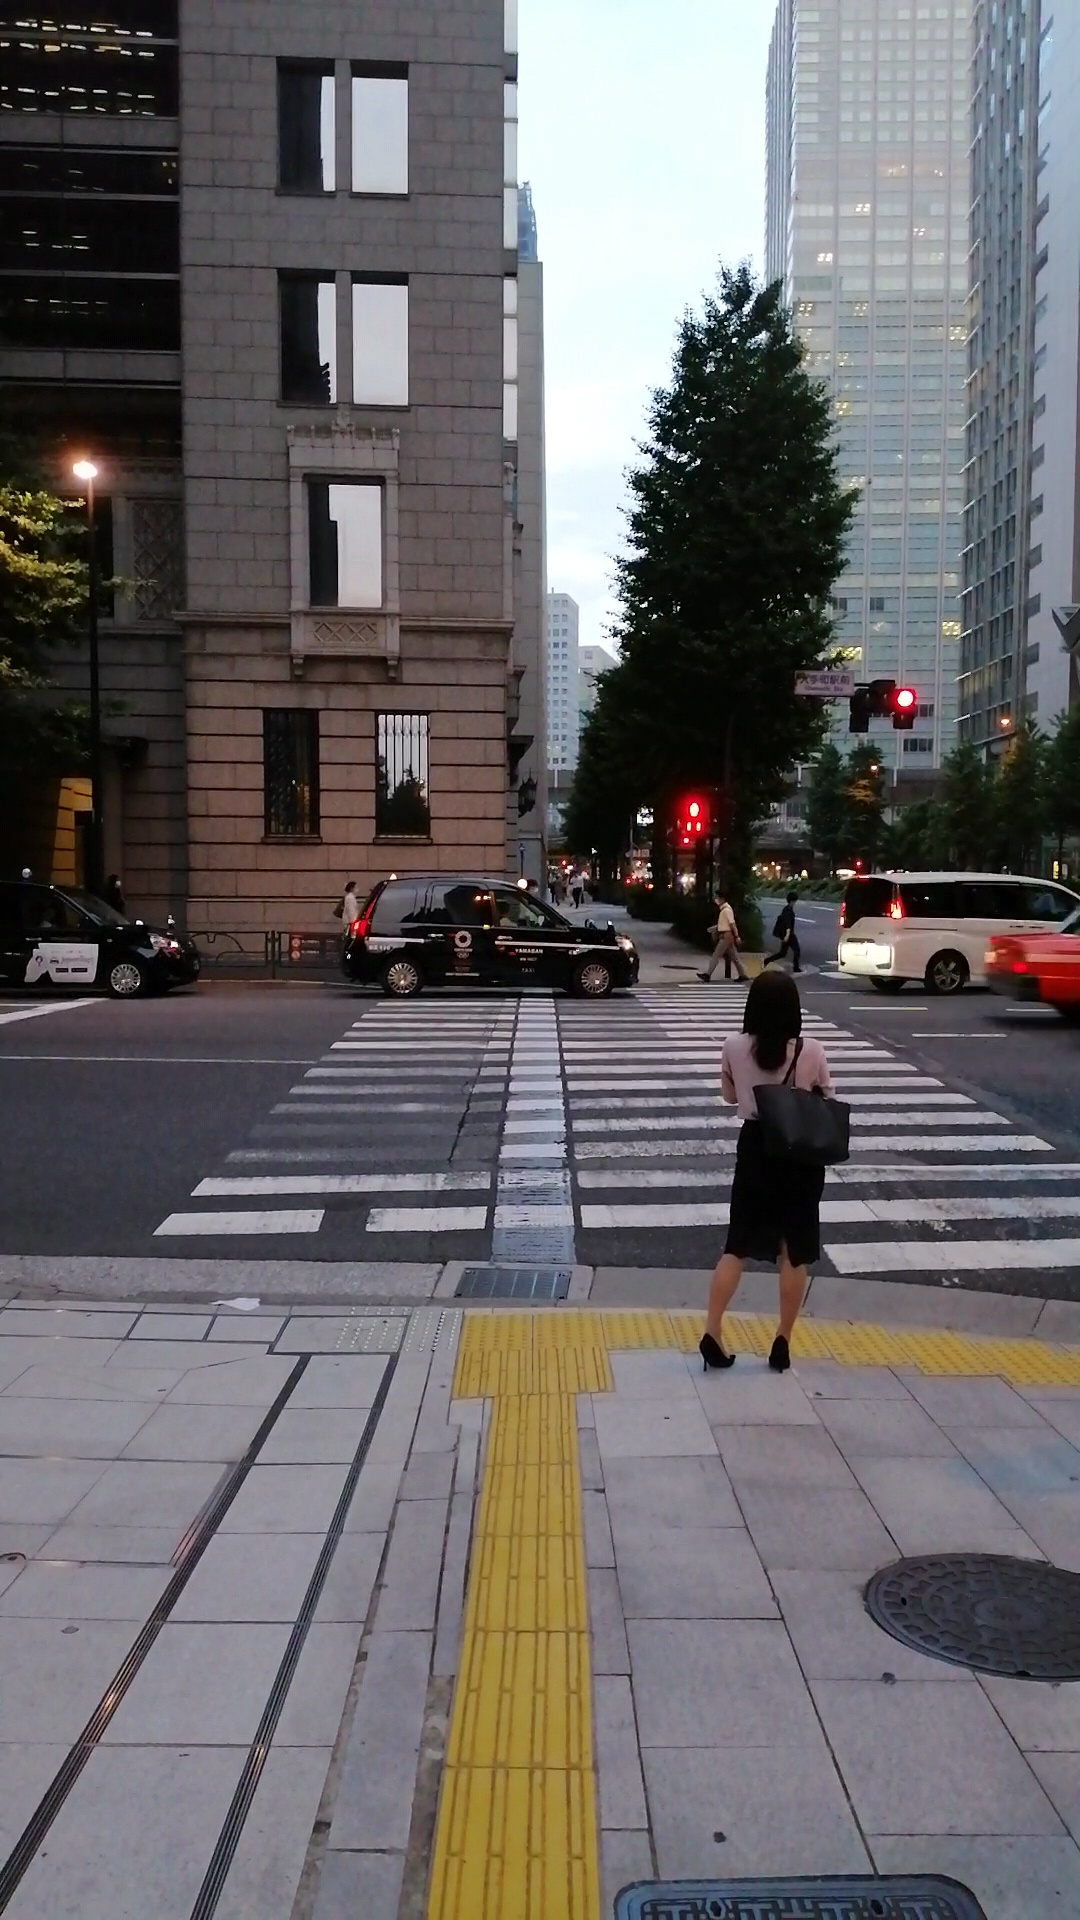red: (680, 790, 707, 836)
